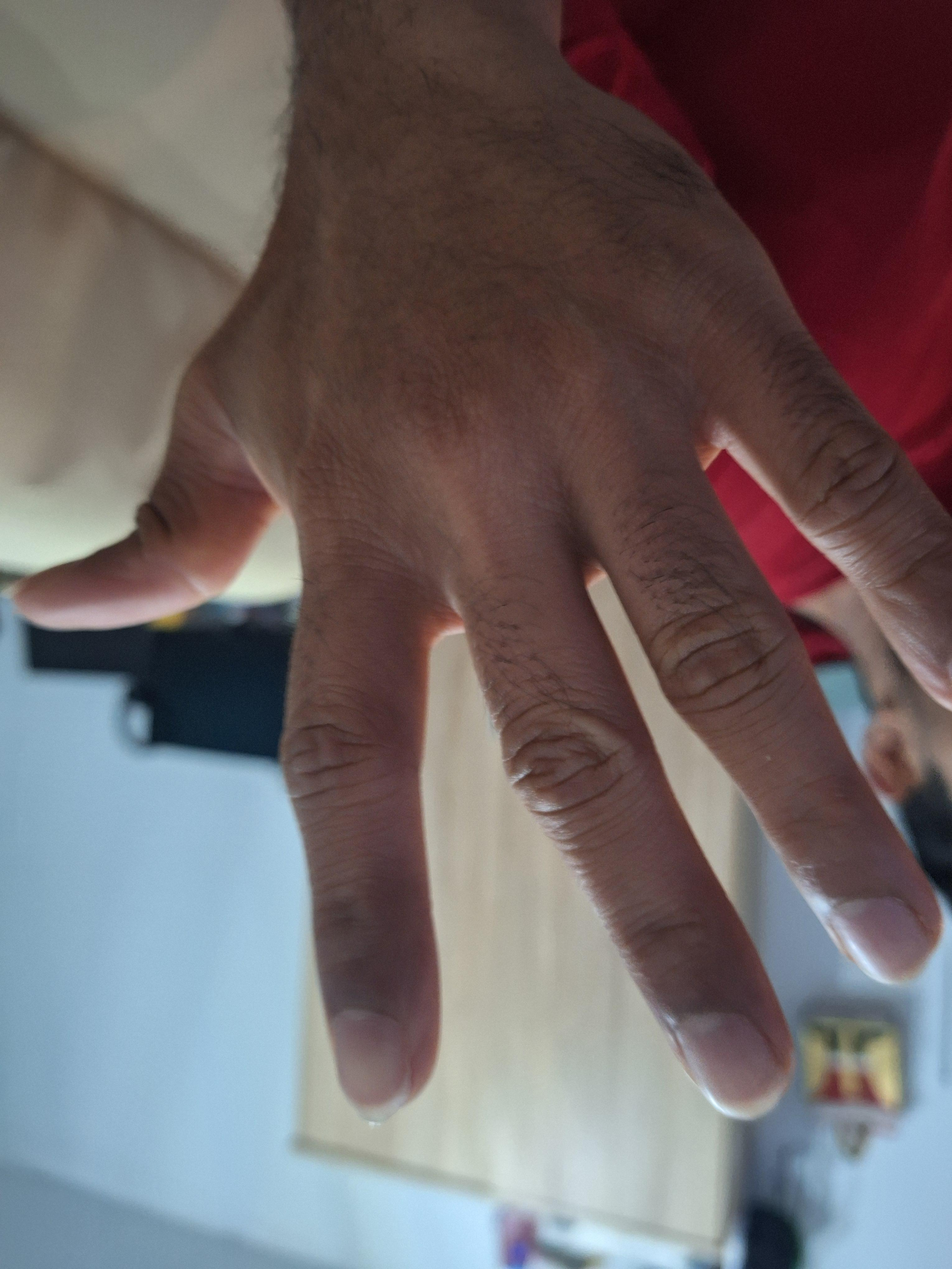Fingernail: (676, 1015, 785, 1118), (327, 1009, 407, 1126), (833, 898, 927, 985)
